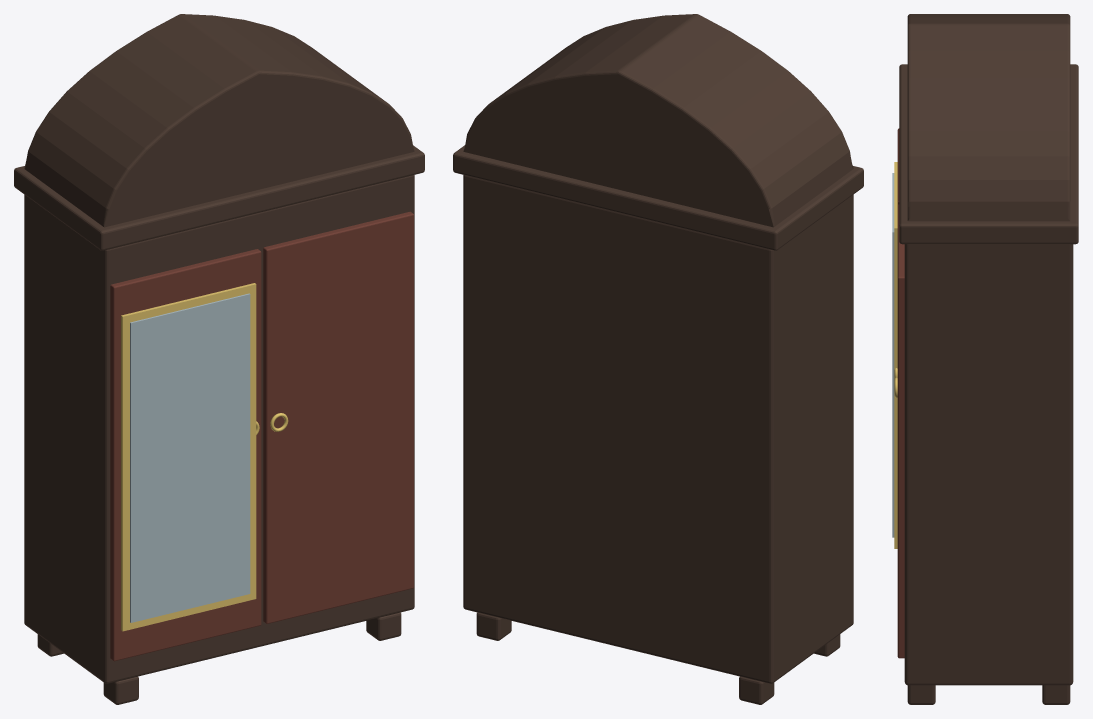
The model's file is wardrobe_mirror_door.glb.
The picture shows the model from 3 angles, left to right: view 1: azimuth 30°, elevation 25°; view 2: azimuth 150°, elevation 25°; view 3: azimuth 270°, elevation 25°; orthographic projection.
Parts seen in each view (by area): view 1: GD_wardrobe_mirror_door__m0, GD_wardrobe_mirror_door__m3, GD_wardrobe_mirror_door__m2, GD_wardrobe_mirror_door__m1; view 2: GD_wardrobe_mirror_door__m0; view 3: GD_wardrobe_mirror_door__m0, GD_wardrobe_mirror_door__m3, GD_wardrobe_mirror_door__m1, GD_wardrobe_mirror_door__m2.
Boxes of the visible parts, x1,y1,x2,y2 form: GD_wardrobe_mirror_door__m0: (14, 14, 424, 704); GD_wardrobe_mirror_door__m3: (110, 211, 413, 661); GD_wardrobe_mirror_door__m2: (130, 293, 250, 622); GD_wardrobe_mirror_door__m1: (121, 283, 288, 631); GD_wardrobe_mirror_door__m0: (453, 14, 863, 704); GD_wardrobe_mirror_door__m0: (899, 14, 1078, 704); GD_wardrobe_mirror_door__m3: (897, 128, 904, 658); GD_wardrobe_mirror_door__m1: (894, 162, 897, 548); GD_wardrobe_mirror_door__m2: (892, 173, 894, 537).
Size of the model in its own units: 1.36 by 2.4 by 0.665.
